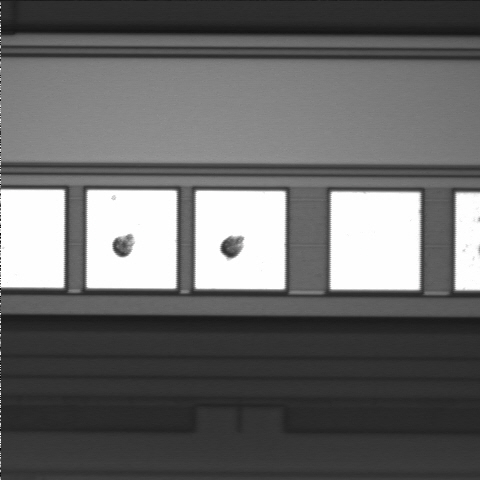pad: (87, 190, 177, 289), (195, 191, 285, 289), (331, 192, 420, 290)
